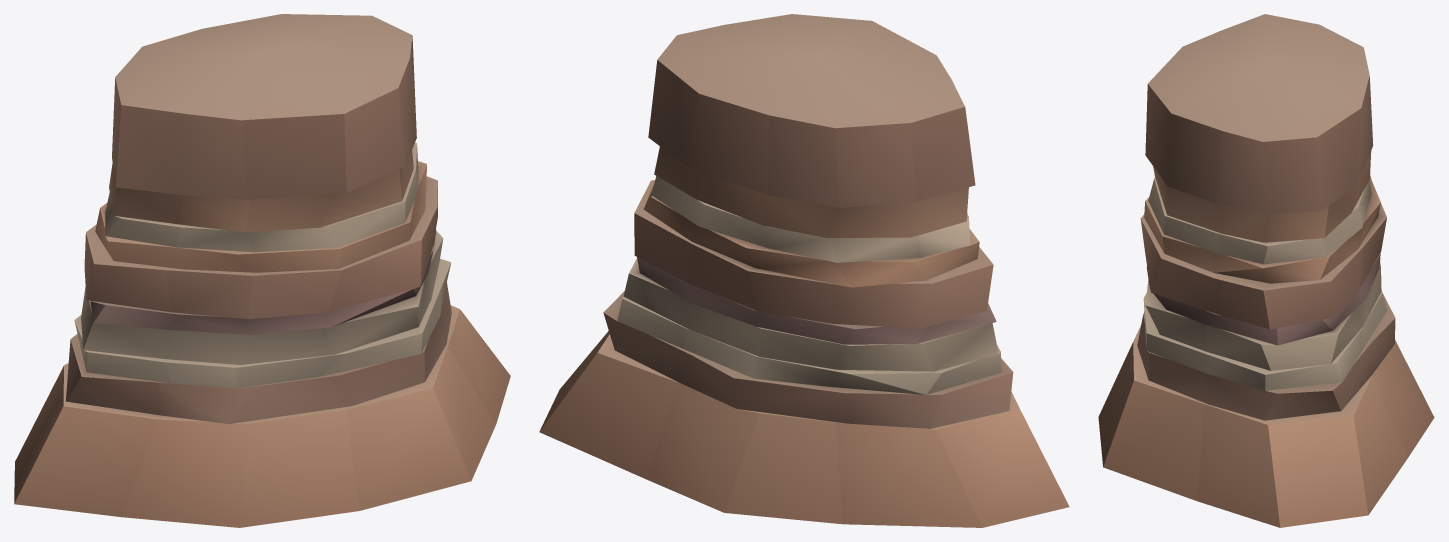
Rendered from mesa_b_lo.glb.
3 renders of one model, left to right at view 1: azimuth 30°, elevation 25°; view 2: azimuth 150°, elevation 25°; view 3: azimuth 270°, elevation 25°, orthographic. The views are drawn at different scales.
Parts seen in each view (by area): view 1: mesa_b_lo; view 2: mesa_b_lo; view 3: mesa_b_lo.
Part boxes in pixels (left/top/right/bottom): mesa_b_lo: left=14, top=14, right=510, bottom=527; mesa_b_lo: left=539, top=14, right=1069, bottom=527; mesa_b_lo: left=1098, top=14, right=1434, bottom=527.
Bounding box in the file's own units: 28.18 × 20.8 × 18.
